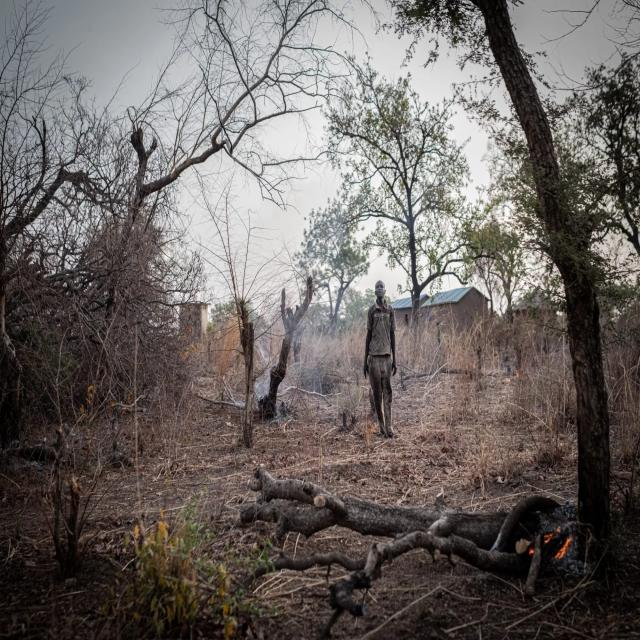Militant: (348, 272, 421, 459)
